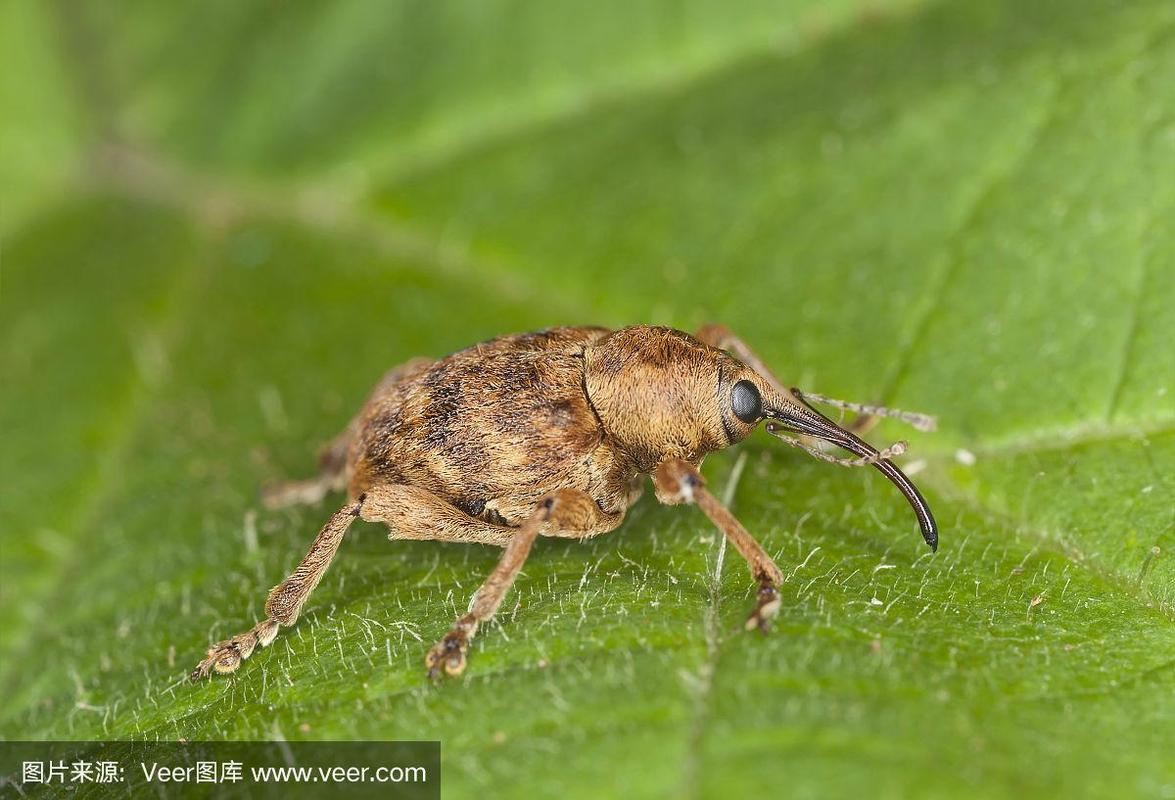Curculionidae: (189, 318, 941, 690)
